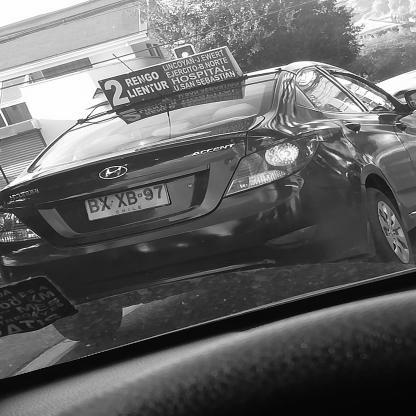Patente: (81, 179, 177, 223)
